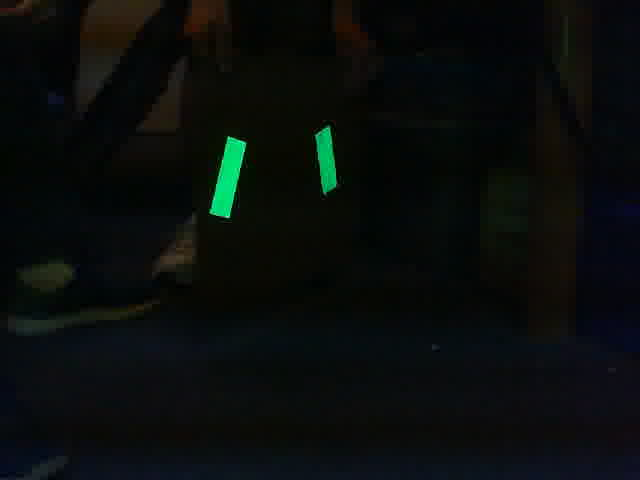target: (206, 124, 342, 224)
